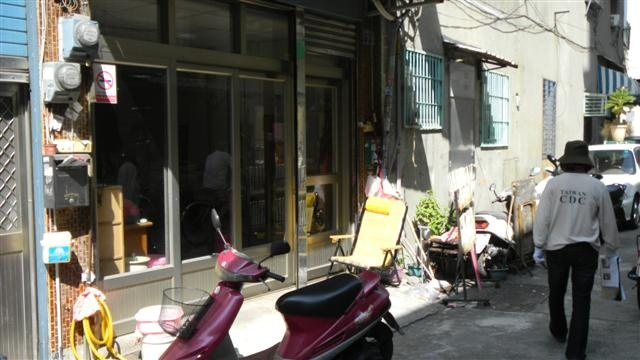bowl: (135, 300, 185, 336)
